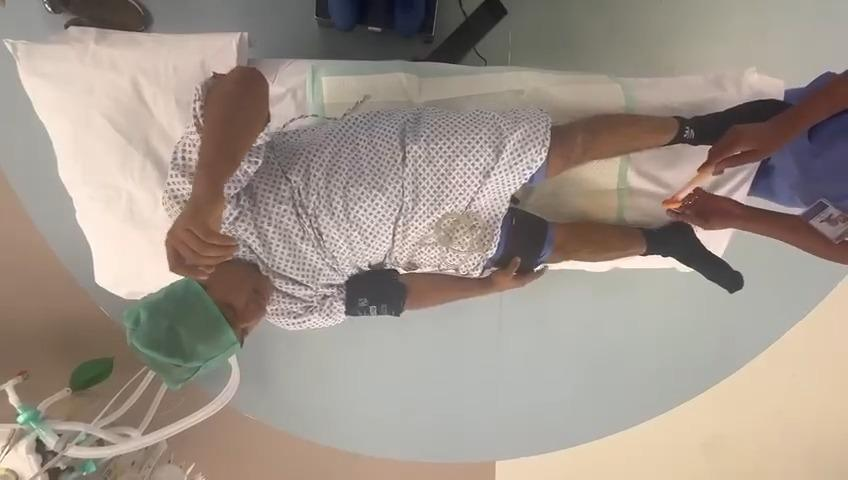patient: (0, 0, 68, 41)
